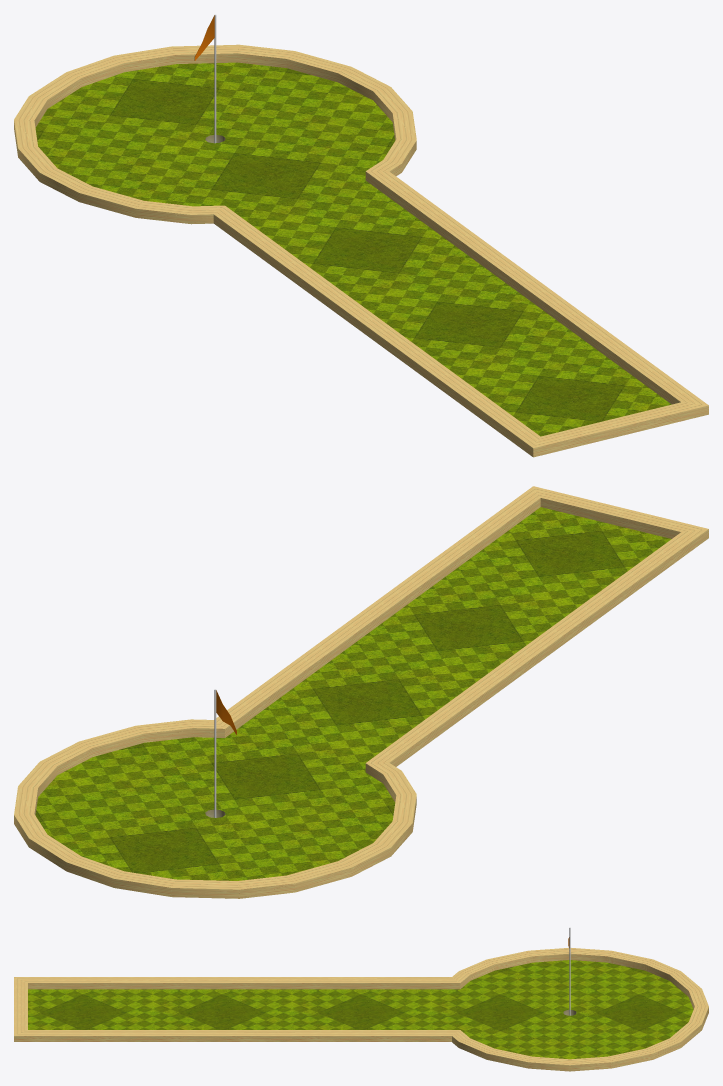
File: course1_hole1.fbx
3 views of the same model, one above another, from view 1: azimuth 30°, elevation 25°; view 2: azimuth 150°, elevation 25°; view 3: azimuth 270°, elevation 25° (orthographic). The views are drawn at different scales.
Visible parts, largest first — view 1: course1_hole1_ground, course1_hole1_walls; view 2: course1_hole1_ground, course1_hole1_walls, course1_hole1_flag; view 3: course1_hole1_ground, course1_hole1_walls.
Part boxes in pixels (x1,y1,x2,y2): course1_hole1_ground: (35, 62, 671, 436); course1_hole1_walls: (14, 44, 708, 457); course1_hole1_ground: (35, 507, 671, 880); course1_hole1_walls: (14, 486, 708, 898); course1_hole1_flag: (214, 689, 236, 817); course1_hole1_ground: (28, 960, 693, 1059); course1_hole1_walls: (14, 948, 708, 1071).
Size of the model in its own units: 6 by 2.25 by 15.
